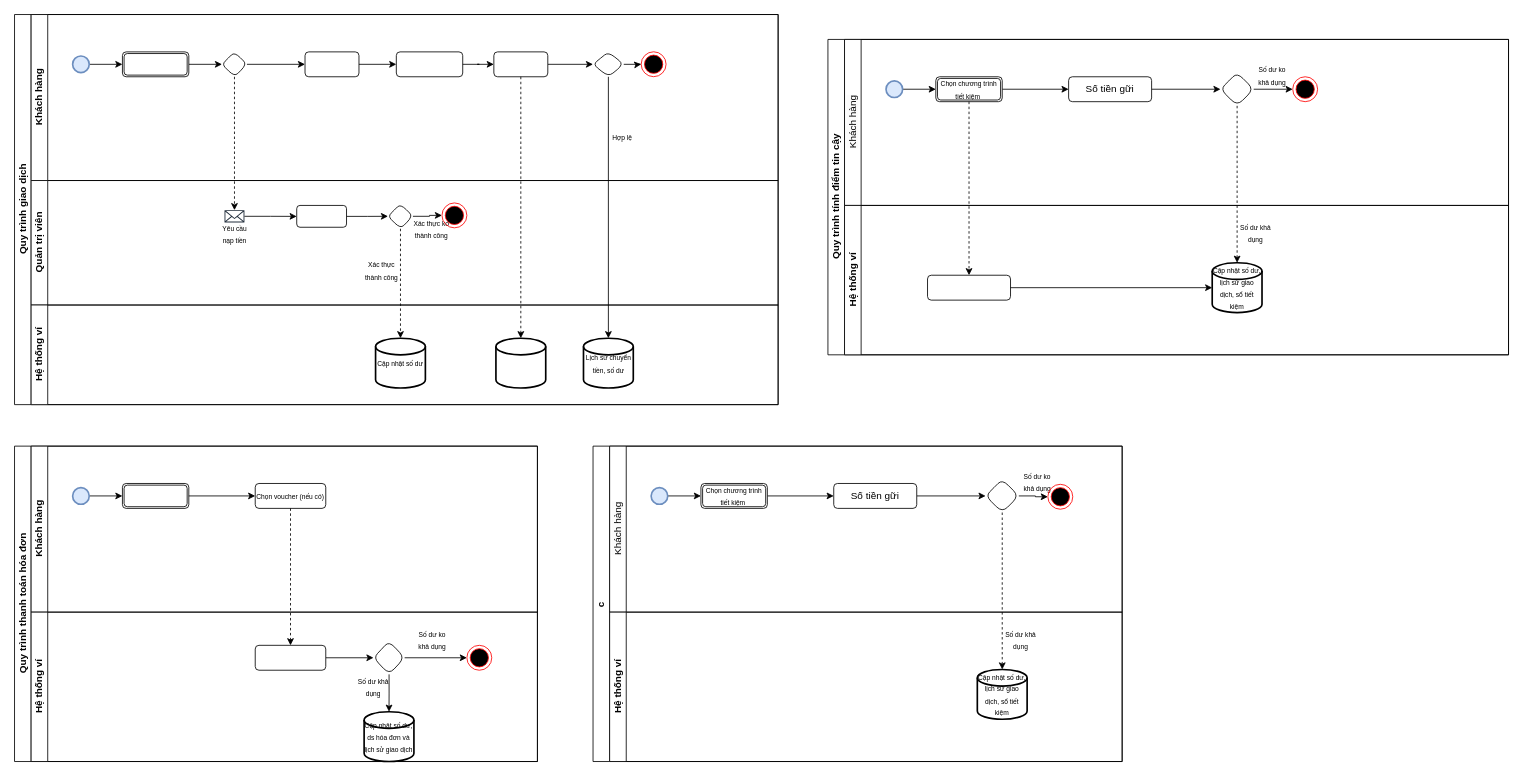
Image size: 1523x777. Some labels were removed from this diagram. The shapes that lost their labels are listed below. From the top down, each one's centre as x and y in pixels, then its label:
(x=155, y=64): Chọn phương thức giao dịch
(x=331, y=64): Chuyển tiền
(x=429, y=64): Nhập mã người dùng cần chuyển đến
(x=520, y=64): Xác nhận người dùng khả dụng
(x=321, y=216): Xác nhận thanh toán
(x=969, y=287): Tính toán lãi suất
(x=520, y=362): Thông tin người dùng
(x=155, y=495): Chọn hóa đơn cần thanh toán
(x=290, y=657): Tính toán lại gía trị hóa đơn
